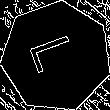L_E: (27, 34, 85, 79)
